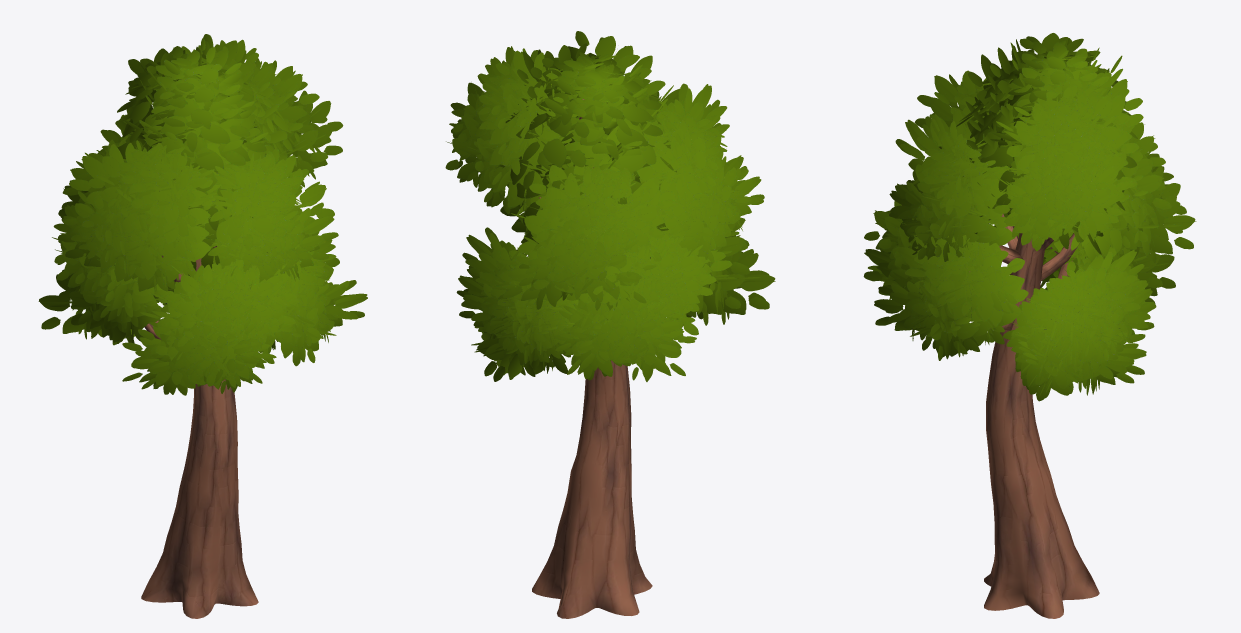
Rendered from tree-deciduous.glb.
3 renders of one model, left to right at view 1: azimuth 30°, elevation 25°; view 2: azimuth 150°, elevation 25°; view 3: azimuth 270°, elevation 25°, orthographic. The views are drawn at different scales.
Visible parts, largest first — view 1: CommonTree_1; view 2: CommonTree_1; view 3: CommonTree_1.
Boxes of the visible parts, box(x1,y1,x2,y2) form: CommonTree_1: box(38, 34, 367, 618); CommonTree_1: box(445, 31, 775, 618); CommonTree_1: box(863, 33, 1196, 618).
Size of the model in its own units: 4.31 by 7.26 by 4.58.
Materials: 2 (2 with a texture image).
